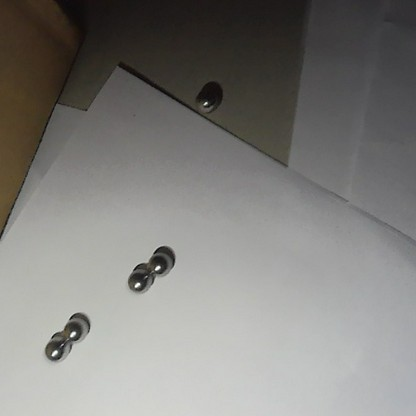ironball: (124, 267, 152, 294), (148, 251, 173, 277), (64, 319, 88, 343), (44, 338, 69, 361), (196, 91, 218, 113)
